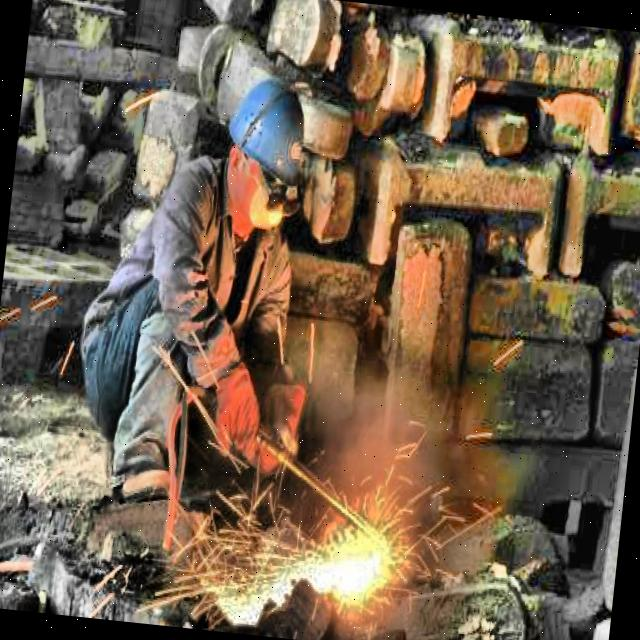helmet: (212, 62, 316, 236)
